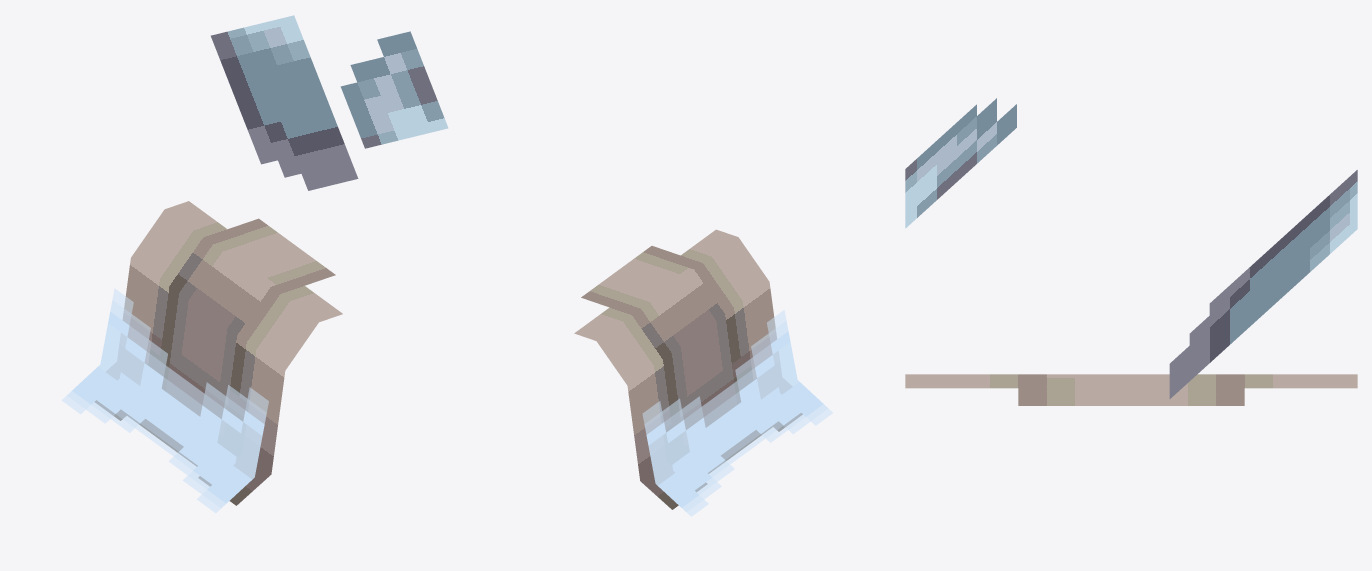
3 renders of one model, left to right at view 1: azimuth 30°, elevation 25°; view 2: azimuth 150°, elevation 25°; view 3: azimuth 270°, elevation 25°, orthographic. The views are drawn at different scales.
Bounding box in the file's own units: 1.05 × 1.58 × 1.
6 materials, 6 textured.
